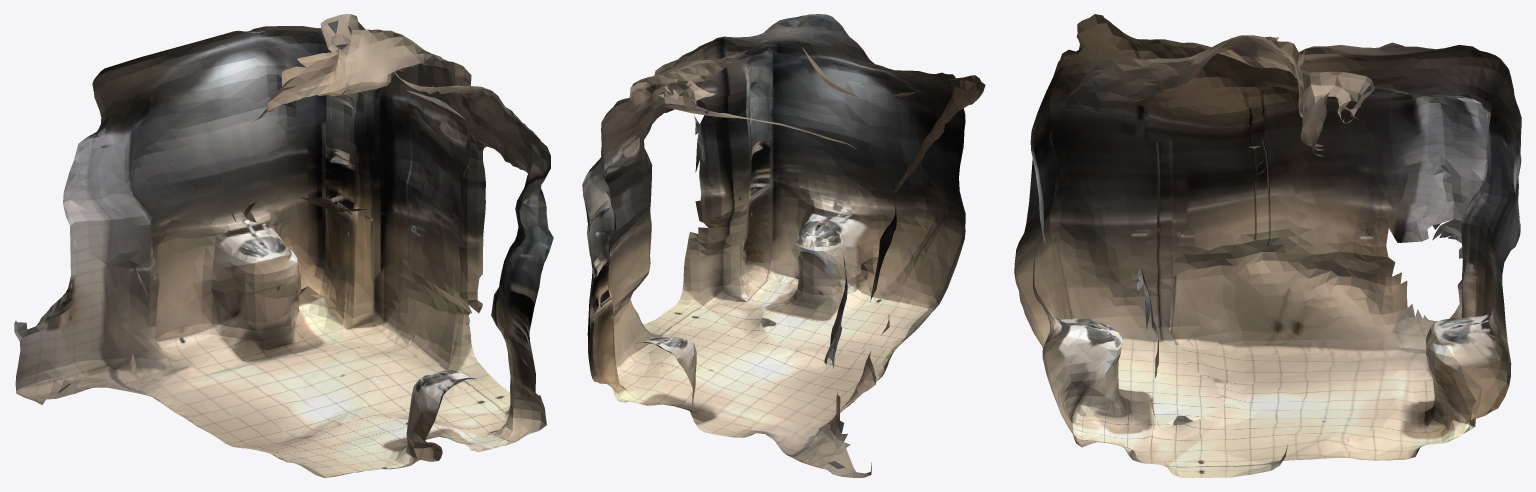
Rendered from depont_museum.glb.
3 renders of one model, left to right at view 1: azimuth 30°, elevation 25°; view 2: azimuth 150°, elevation 25°; view 3: azimuth 270°, elevation 25°, orthographic. The views are drawn at different scales.
Parts seen in each view (by area): view 1: mesh; view 2: mesh; view 3: mesh.
Part boxes in pixels (x1=…): mesh: x1=14, y1=14, x2=553, y2=477; mesh: x1=582, y1=14, x2=985, y2=477; mesh: x1=1014, y1=14, x2=1521, y2=477.
Bounding box in the file's own units: 3.52 × 3.24 × 4.12.
1 material, 1 textured.
